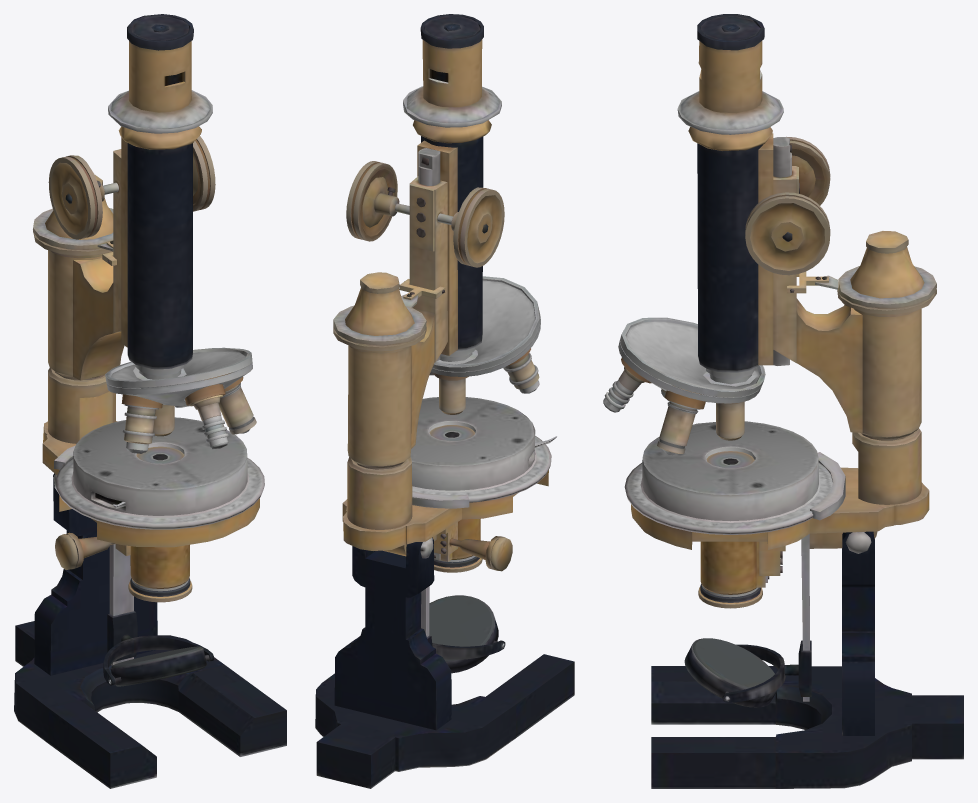
Rendered from microscope.glb.
3 views of the same model, side by side, from view 1: azimuth 30°, elevation 25°; view 2: azimuth 150°, elevation 25°; view 3: azimuth 270°, elevation 25° (orthographic). The views are drawn at different scales.
Parts seen in each view (by area): view 1: vintage_microscope_rack_mount_support, vintage_microscope_eye_piece, vintage_microscope_base, vintage_microscope_revolver, vintage_microscope_adjustment, vintage_microscope_mirror_arm, vintage_microscope_condenser, vintage_microscope_mirror_base; view 2: vintage_microscope_rack_mount_support, vintage_microscope_base, vintage_microscope_eye_piece, vintage_microscope_adjustment, vintage_microscope_mirror_base, vintage_microscope_revolver, vintage_microscope_condenser, vintage_microscope_mirror_arm; view 3: vintage_microscope_rack_mount_support, vintage_microscope_base, vintage_microscope_eye_piece, vintage_microscope_adjustment, vintage_microscope_revolver, vintage_microscope_condenser, vintage_microscope_mirror_base, vintage_microscope_mirror_arm.
Boxes of the visible parts, x1=… form: vintage_microscope_rack_mount_support: x1=33, y1=149, x2=264, y2=569; vintage_microscope_eye_piece: x1=105, y1=14, x2=252, y2=387; vintage_microscope_base: x1=14, y1=473, x2=286, y2=788; vintage_microscope_revolver: x1=106, y1=362, x2=256, y2=453; vintage_microscope_adjustment: x1=48, y1=135, x2=215, y2=239; vintage_microscope_mirror_arm: x1=103, y1=544, x2=213, y2=685; vintage_microscope_condenser: x1=128, y1=446, x2=192, y2=602; vintage_microscope_mirror_base: x1=110, y1=646, x2=206, y2=686; vintage_microscope_rack_mount_support: x1=333, y1=176, x2=556, y2=571; vintage_microscope_base: x1=315, y1=537, x2=574, y2=788; vintage_microscope_eye_piece: x1=403, y1=14, x2=540, y2=371; vintage_microscope_adjustment: x1=346, y1=161, x2=504, y2=267; vintage_microscope_mirror_base: x1=429, y1=595, x2=498, y2=673; vintage_microscope_revolver: x1=429, y1=316, x2=540, y2=414; vintage_microscope_condenser: x1=429, y1=425, x2=482, y2=572; vintage_microscope_mirror_arm: x1=421, y1=586, x2=505, y2=659; vintage_microscope_rack_mount_support: x1=624, y1=166, x2=936, y2=575; vintage_microscope_base: x1=651, y1=531, x2=963, y2=788; vintage_microscope_eye_piece: x1=620, y1=14, x2=791, y2=397; vintage_microscope_adjustment: x1=745, y1=136, x2=830, y2=275; vintage_microscope_revolver: x1=603, y1=338, x2=761, y2=455; vintage_microscope_condenser: x1=698, y1=451, x2=769, y2=608; vintage_microscope_mirror_base: x1=684, y1=638, x2=777, y2=707; vintage_microscope_mirror_arm: x1=722, y1=534, x2=811, y2=702.
Size of the model in its own units: 0.1068 by 0.3996 by 0.1819.
2 materials, 2 textured.
